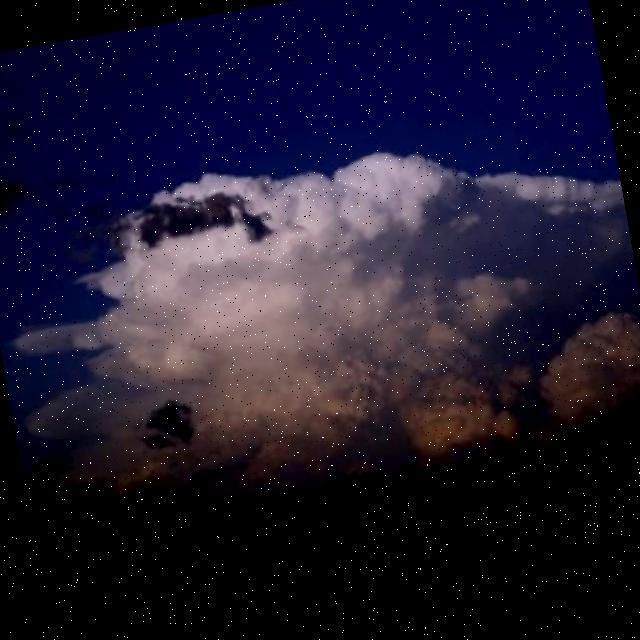Cb: (1, 30, 640, 554)
